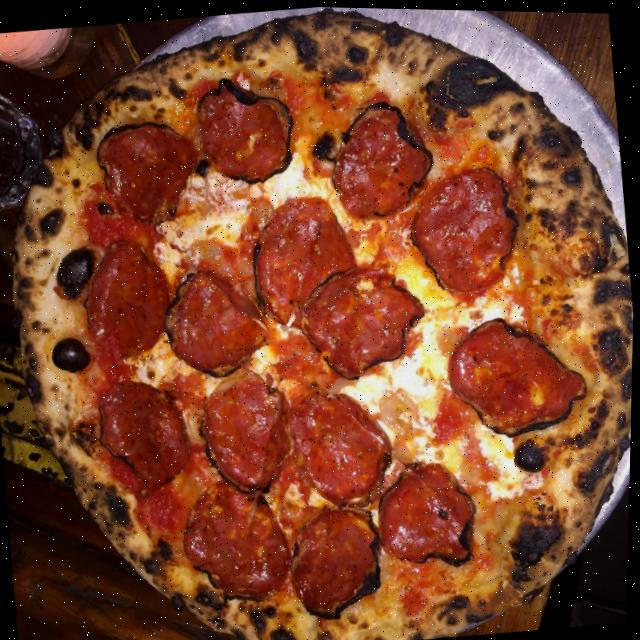pepperoni: (444, 305, 592, 440), (306, 93, 438, 222), (296, 257, 431, 382), (404, 161, 525, 299), (247, 189, 363, 327), (180, 471, 298, 605), (286, 383, 398, 511), (159, 262, 272, 381), (195, 363, 296, 495), (373, 457, 483, 571), (194, 69, 299, 186), (80, 233, 178, 358), (94, 116, 202, 229), (286, 502, 388, 620), (95, 374, 196, 491)
pizza: (0, 0, 640, 640)
